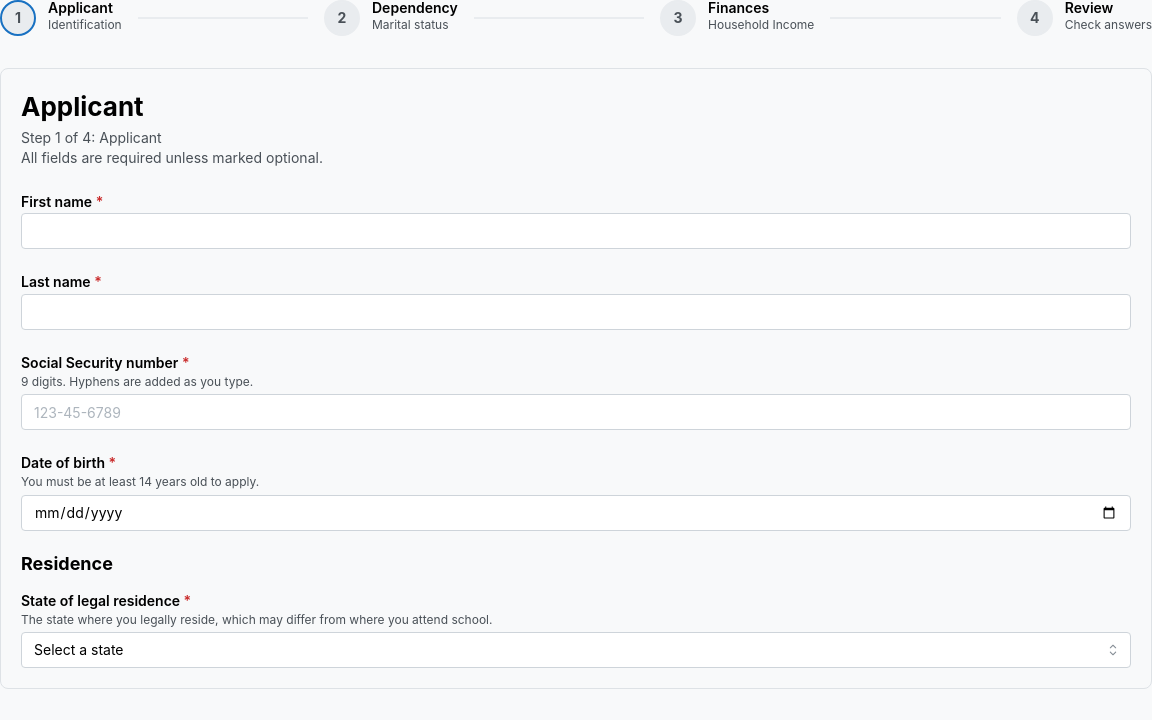
Test: moving through the wizard › remembers what the user typed when they go back
Type "Jane" into the field labelled "First name *" at [576, 232], box [21,214,1131,250]
Type "Smith" into the field labelled "Last name *" at [576, 312], box [21,294,1131,330]
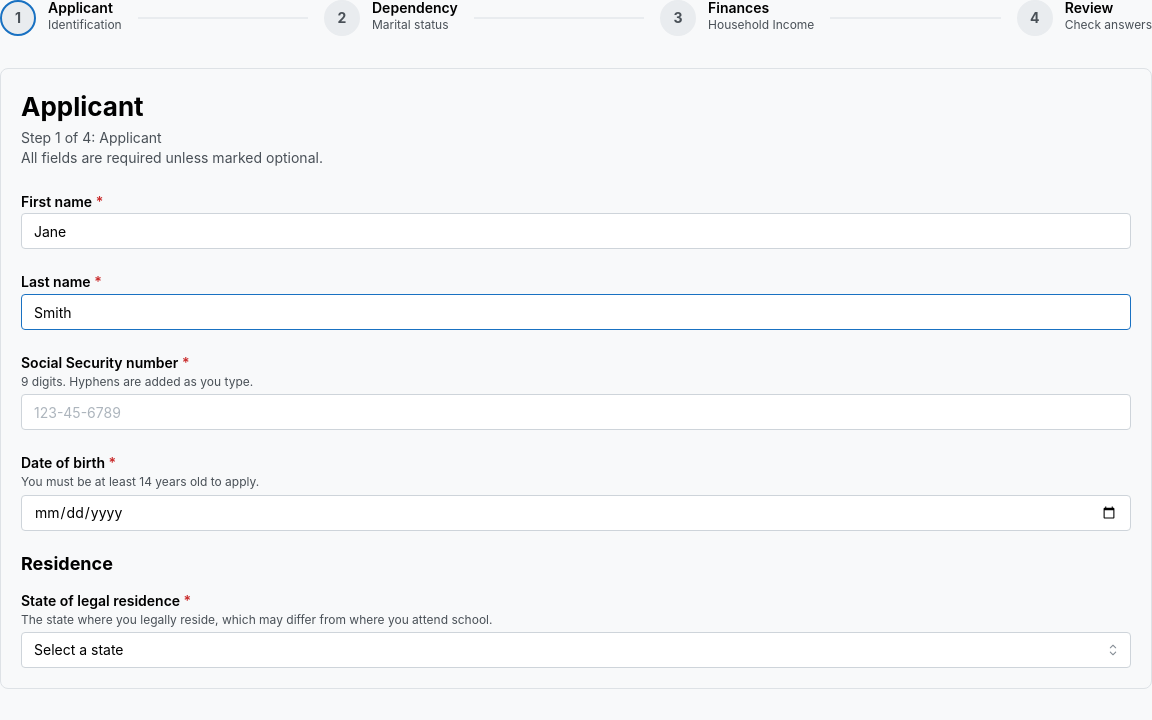
Type "123456789" into the field labelled "Social Security number *" at [576, 412], box [21,394,1131,430]
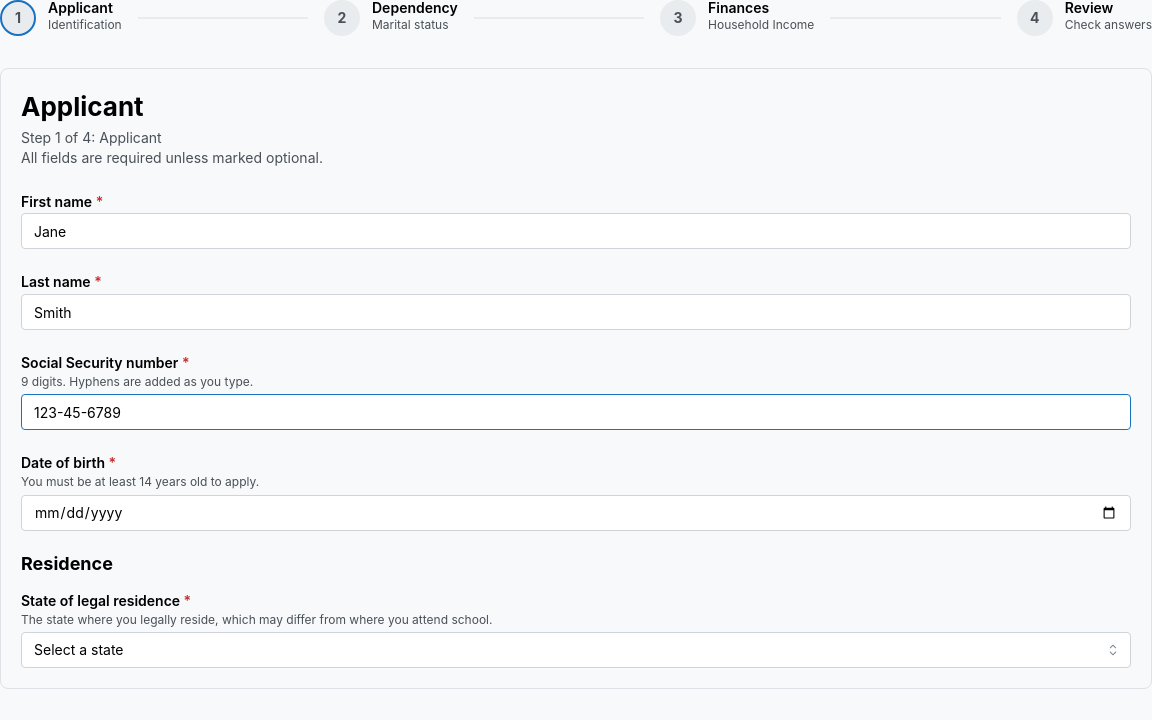
Type "2003-05-15" into the date field labelled "Date of birth *" at [576, 513], box [21,495,1131,531]
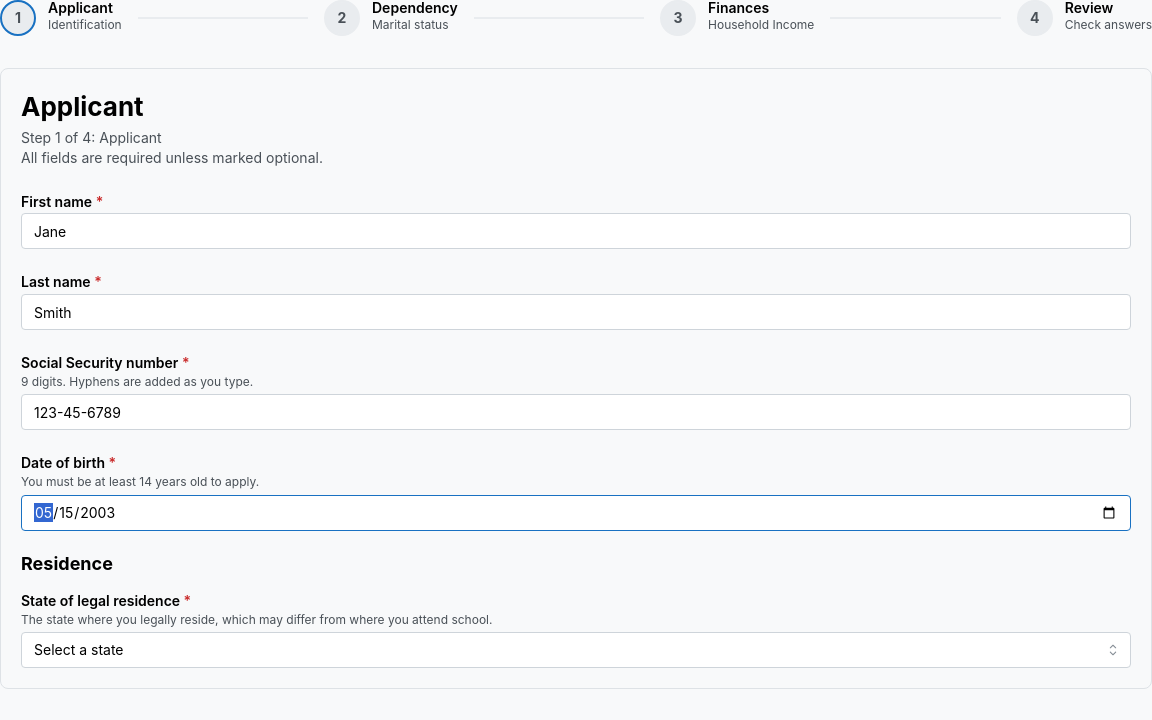
Select "California" in the dropdown labelled "State of legal residence *" at [576, 650], box [21,632,1131,668]
(page scrolled)
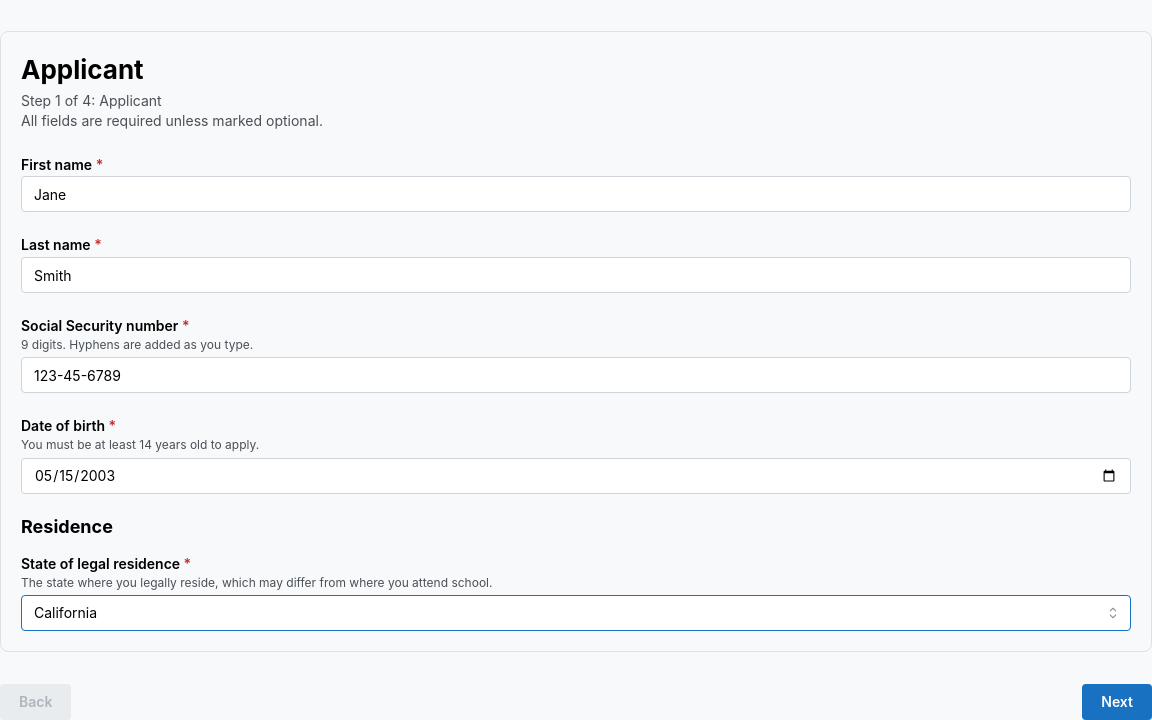
Click the button "Next" at [1117, 702], box [1082,684,1151,719]
(page scrolled)
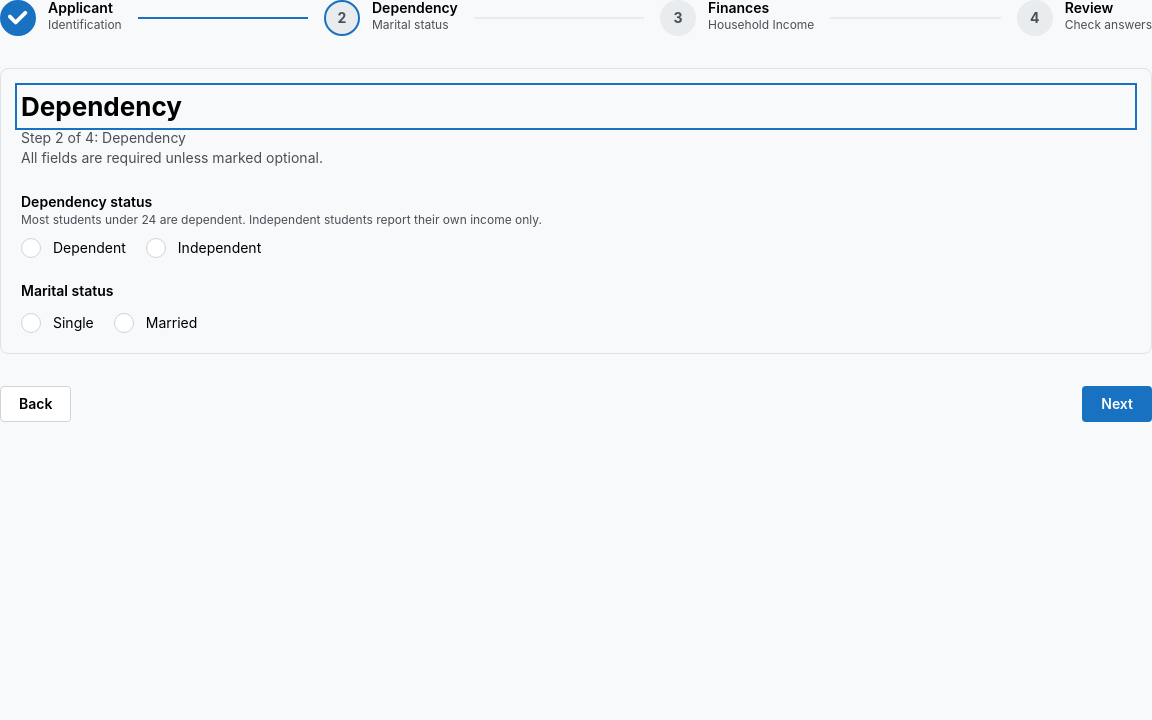
Click the button "Back" at [36, 404], box [0,386,71,422]
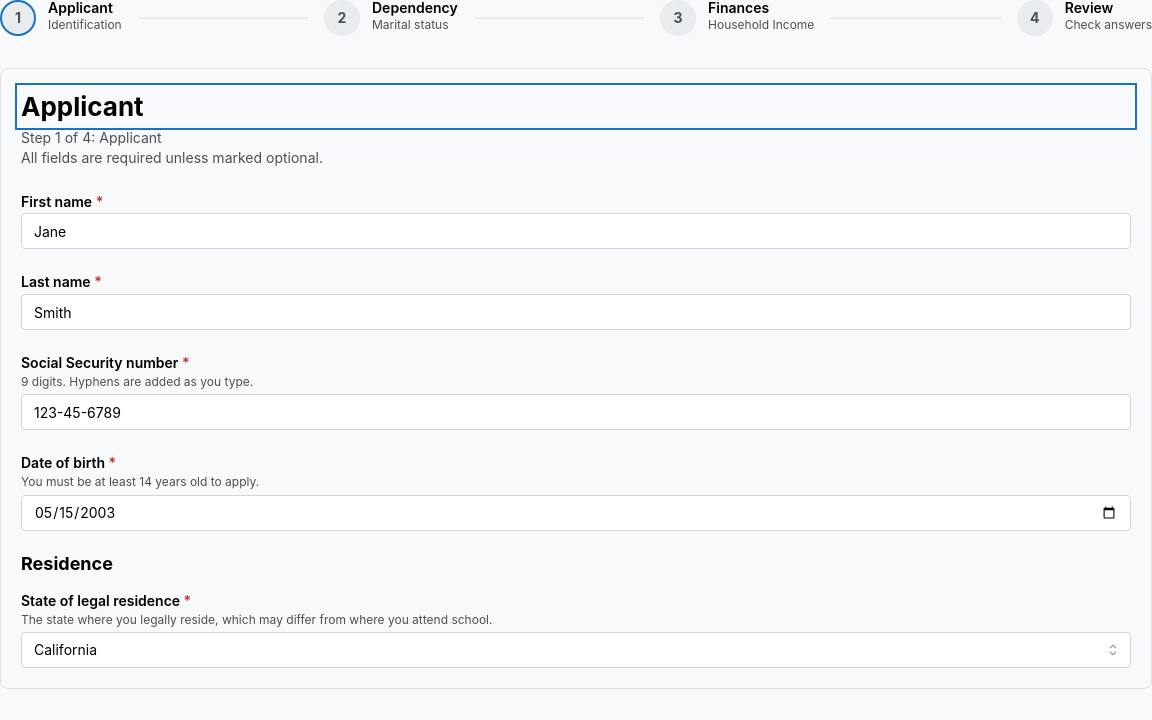
Now the field labelled "First name *" holds "Jane", box [21,214,1131,250]
Now the field labelled "Social Security number *" holds "123-45-6789", box [21,394,1131,430]
